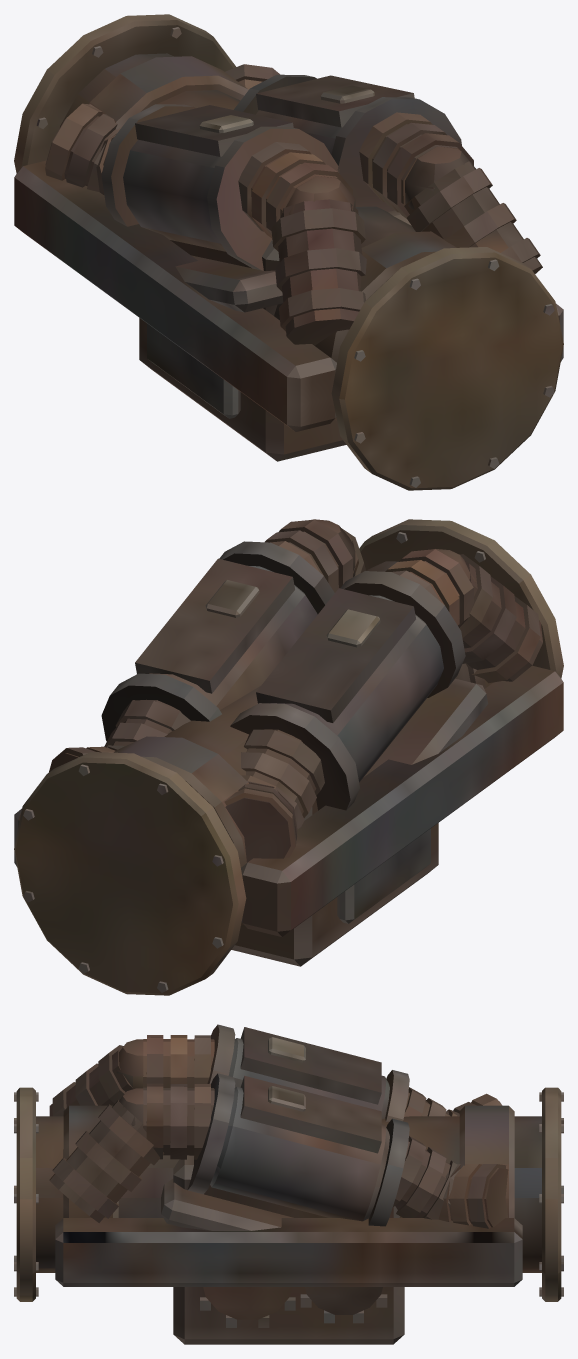
The model's file is pump.glb.
3 renders of one model, top to bottom at view 1: azimuth 30°, elevation 25°; view 2: azimuth 150°, elevation 25°; view 3: azimuth 270°, elevation 25°, orthographic. The views are drawn at different scales.
Parts seen in each view (by area): view 1: body, anim_bob_b, anim_bob_a; view 2: body, anim_bob_a, anim_bob_b; view 3: body, anim_bob_b, anim_bob_a.
Boxes of the visible parts, bbox=[...] form: body: bbox=[14, 14, 563, 490]; anim_bob_b: bbox=[320, 85, 374, 103]; anim_bob_a: bbox=[199, 115, 253, 133]; body: bbox=[14, 519, 563, 995]; anim_bob_a: bbox=[326, 609, 380, 647]; anim_bob_b: bbox=[205, 580, 259, 617]; body: bbox=[14, 1024, 563, 1344]; anim_bob_b: bbox=[268, 1086, 305, 1111]; anim_bob_a: bbox=[268, 1037, 305, 1062].
Bounding box in the file's own units: 0.96 × 1.04 × 2.
Materials: 1 (1 with a texture image).
